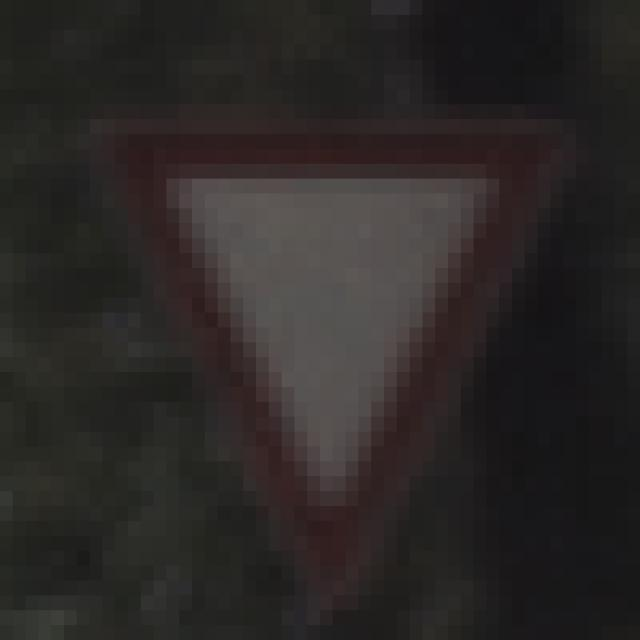Give Way: (78, 76, 577, 567)
